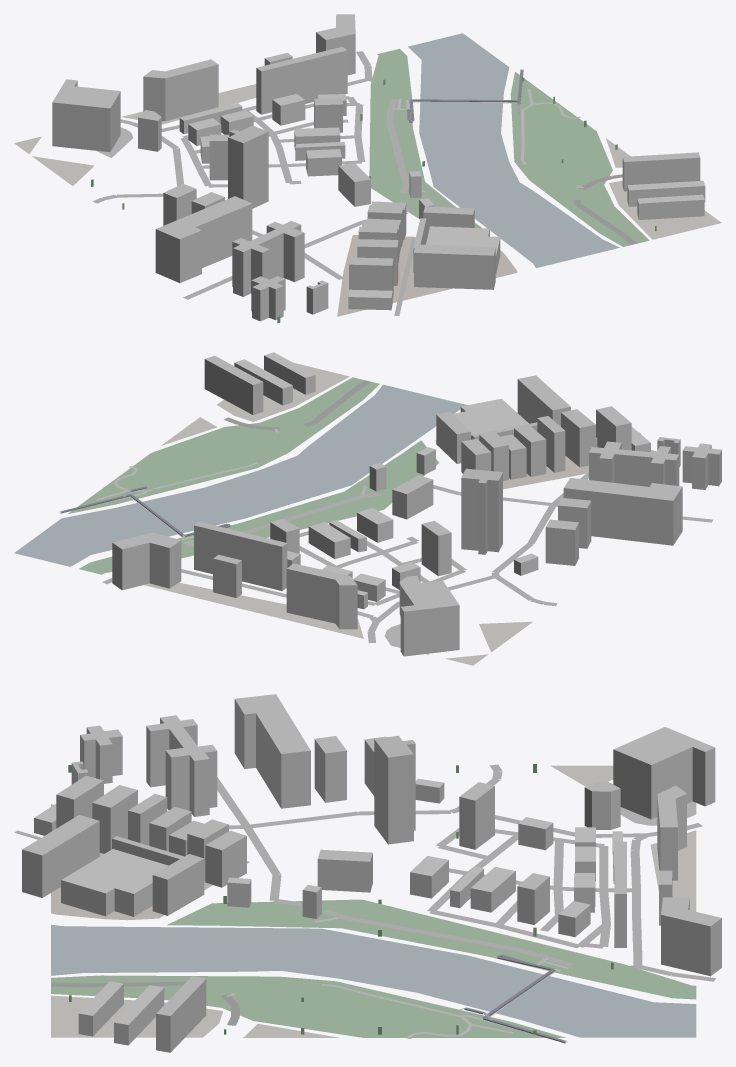
3 views of the same model, one above another, from view 1: azimuth 30°, elevation 25°; view 2: azimuth 150°, elevation 25°; view 3: azimuth 270°, elevation 25° (orthographic). The views are drawn at different scales.
Size of the model in its own units: 563 by 75.08 by 549.
